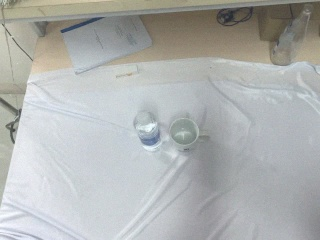bottle: (270, 2, 315, 68), (134, 111, 162, 153)
box: (253, 4, 294, 42)
cup: (169, 118, 199, 152)
